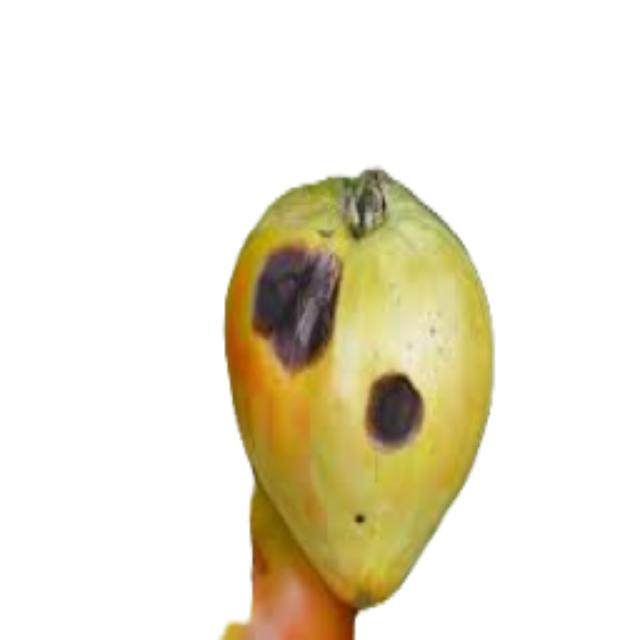defect: (219, 167, 500, 611)
